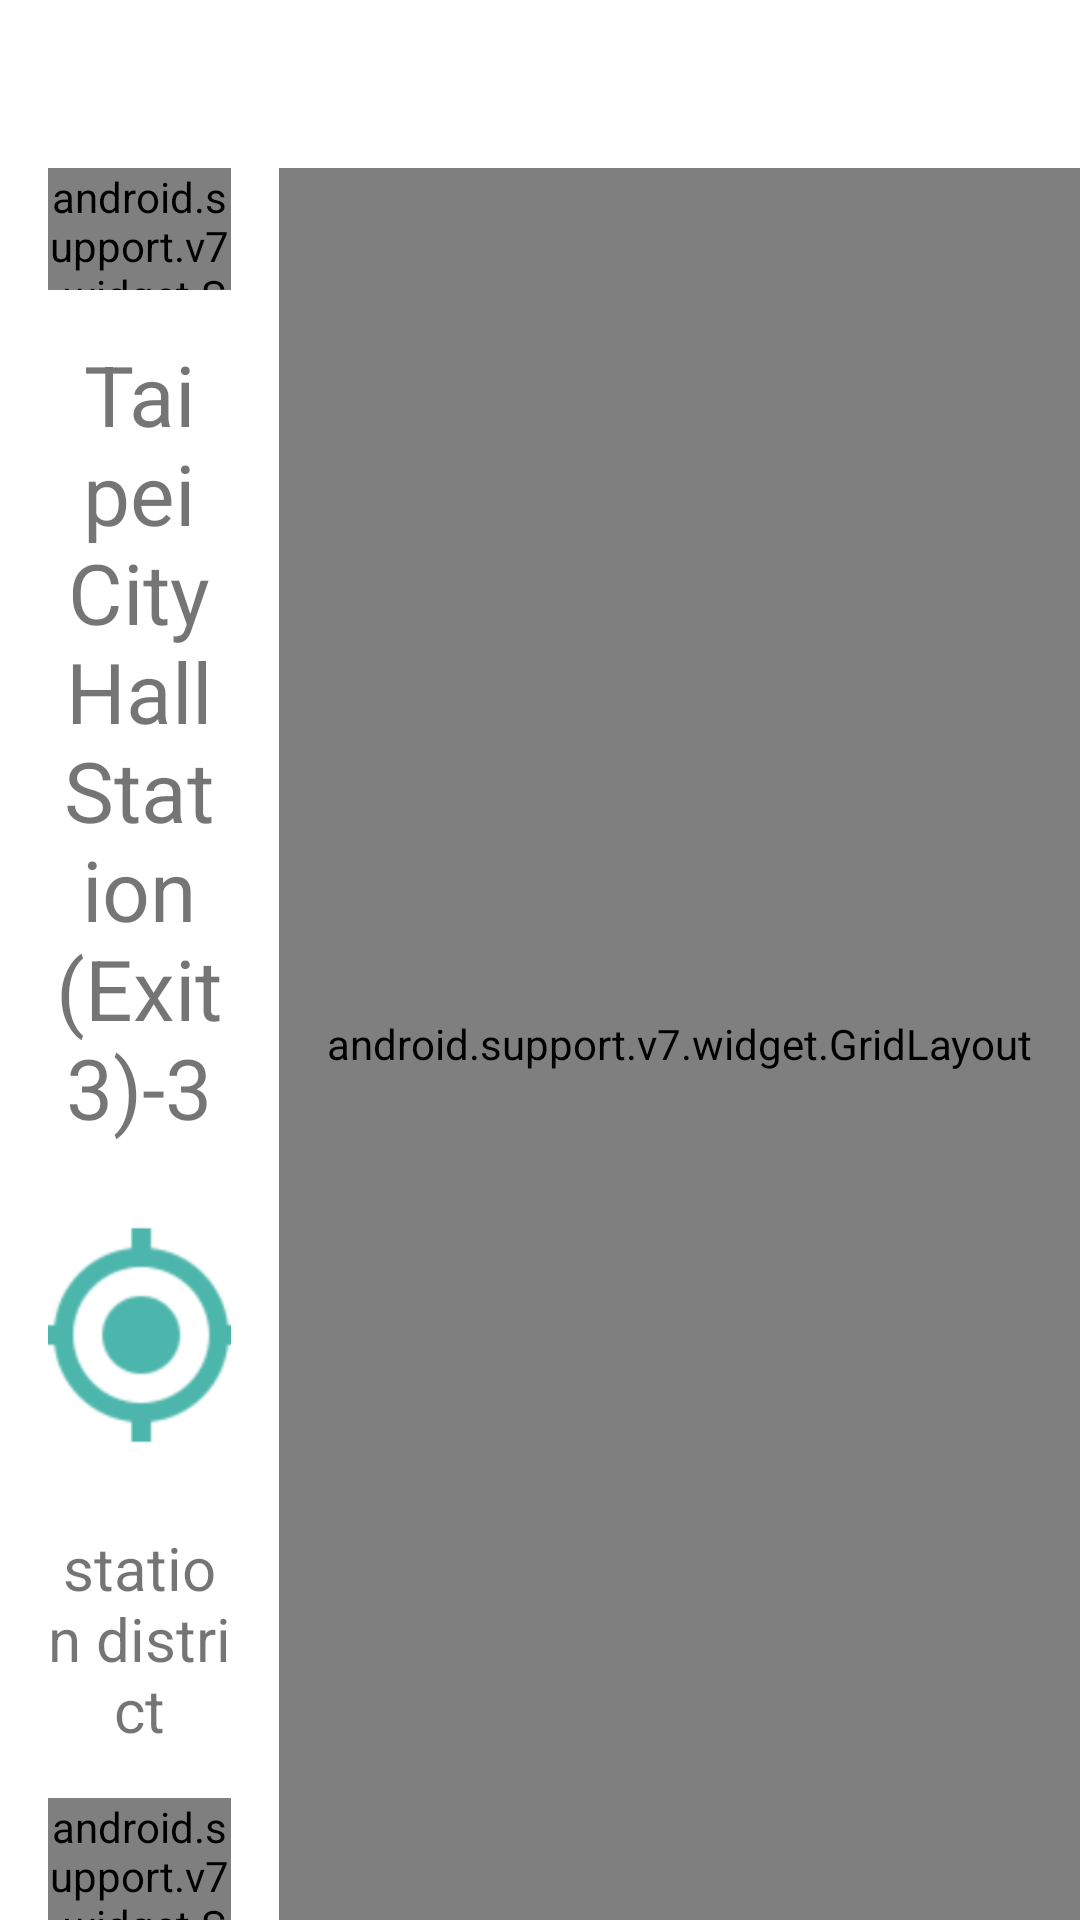

Icon click points for this 1080px×1920px phone screenshot, format point (x, y):
Status Icon: point (139, 1335)
